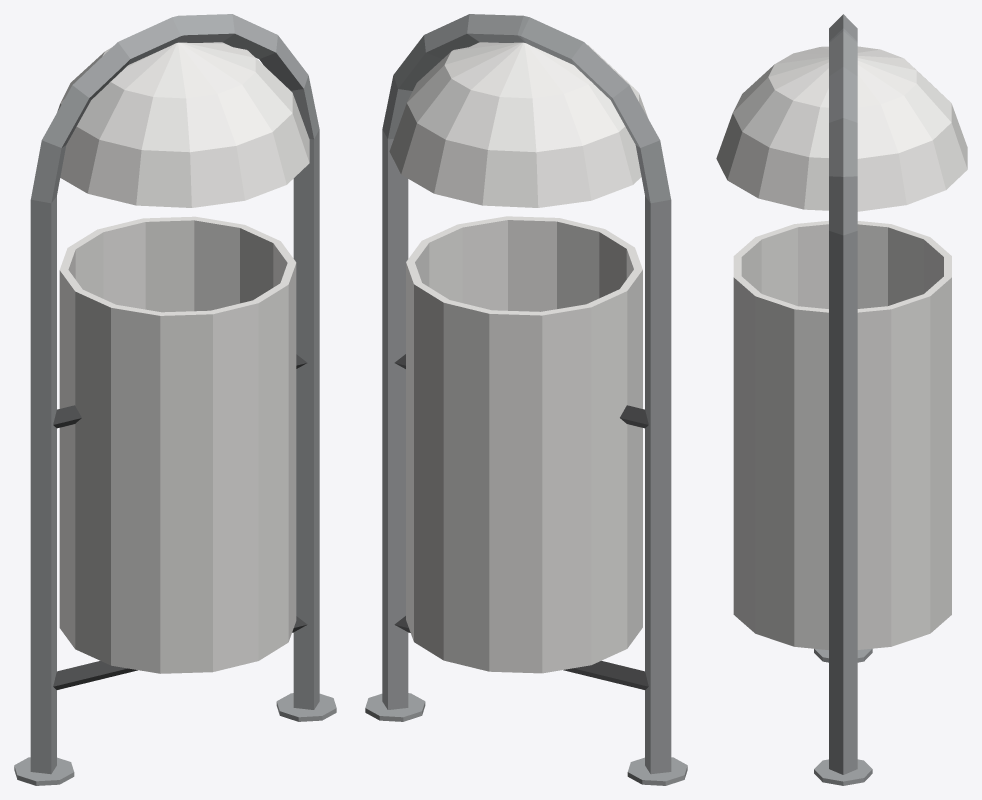
File: SM_trashbin_02.fbx
3 renders of one model, left to right at view 1: azimuth 30°, elevation 25°; view 2: azimuth 150°, elevation 25°; view 3: azimuth 270°, elevation 25°, orthographic. The views are drawn at different scales.
Visible parts, largest first — view 1: Sphere001; view 2: Sphere001; view 3: Sphere001.
Boxes of the visible parts, <box> form: Sphere001: <box>14,14,336,785</box>; Sphere001: <box>365,14,687,785</box>; Sphere001: <box>716,14,967,785</box>.
Bounding box in the file's own units: 21.79 × 15.9 × 47.73.
